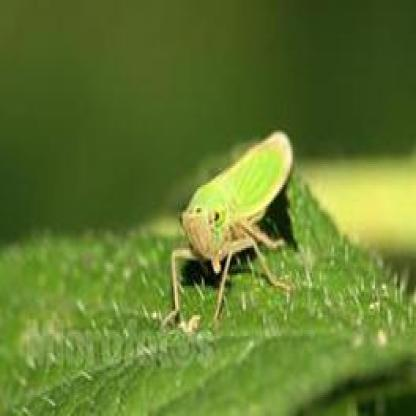Green-Leafhopper: (168, 125, 296, 315)
